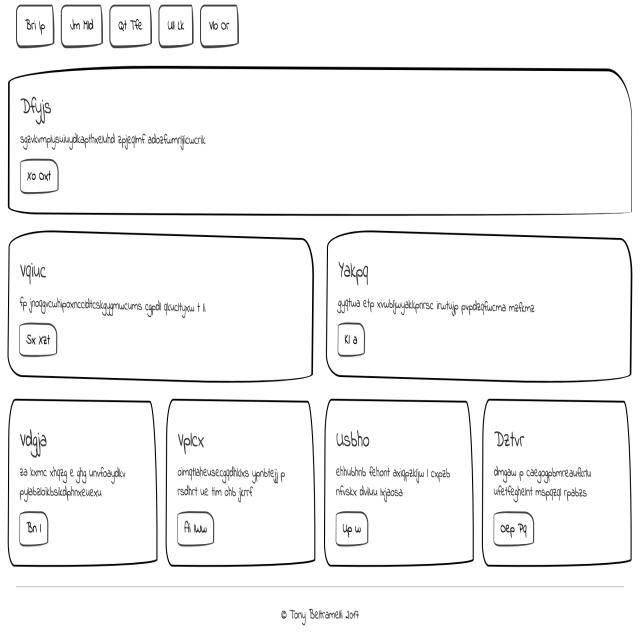Card: (3, 67, 637, 223), (5, 228, 318, 390), (324, 227, 636, 385), (165, 395, 318, 574), (479, 396, 636, 570), (323, 395, 477, 568), (8, 398, 159, 569)
Heading 6: (15, 90, 68, 126), (336, 253, 382, 290), (493, 424, 539, 457), (332, 422, 376, 455), (17, 424, 54, 460), (174, 424, 211, 456), (15, 260, 58, 285)
Navigation Bar: (15, 4, 244, 52)
